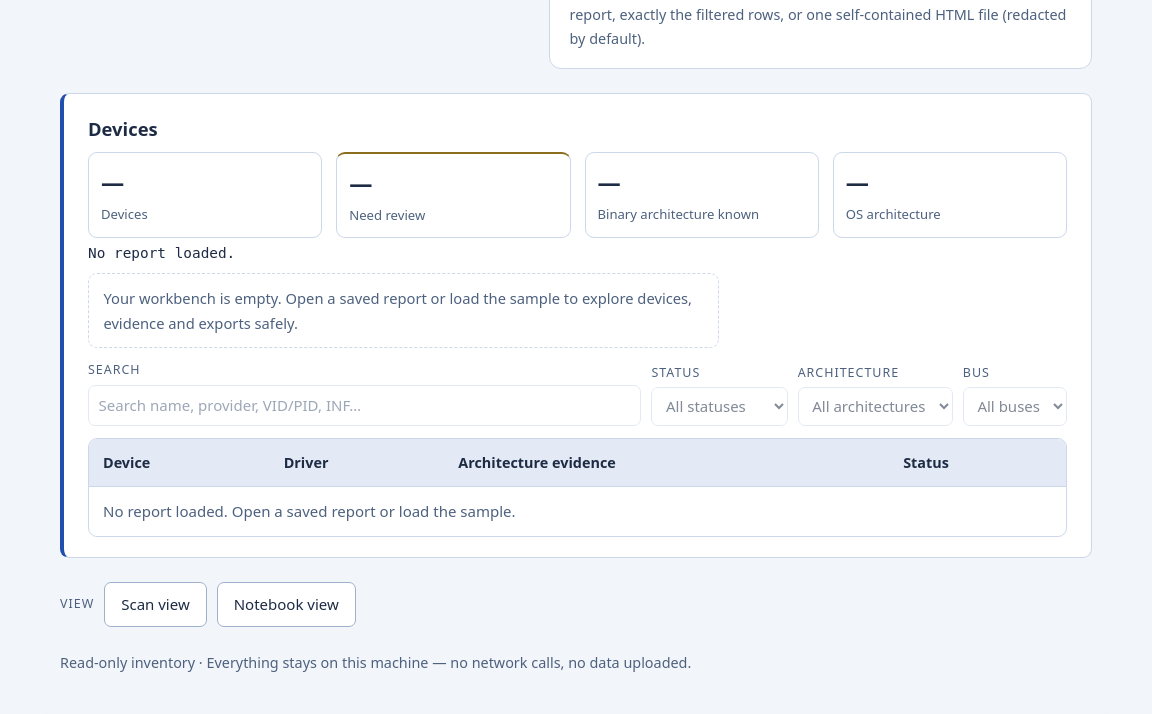
Scenario: App — view switcher › switches between the scan view and the notebook view; the notebook is fetched only when opened
(page scrolled)
Click the button "Notebook view" at (286, 604), box [217,582,356,626]
(page scrolled)
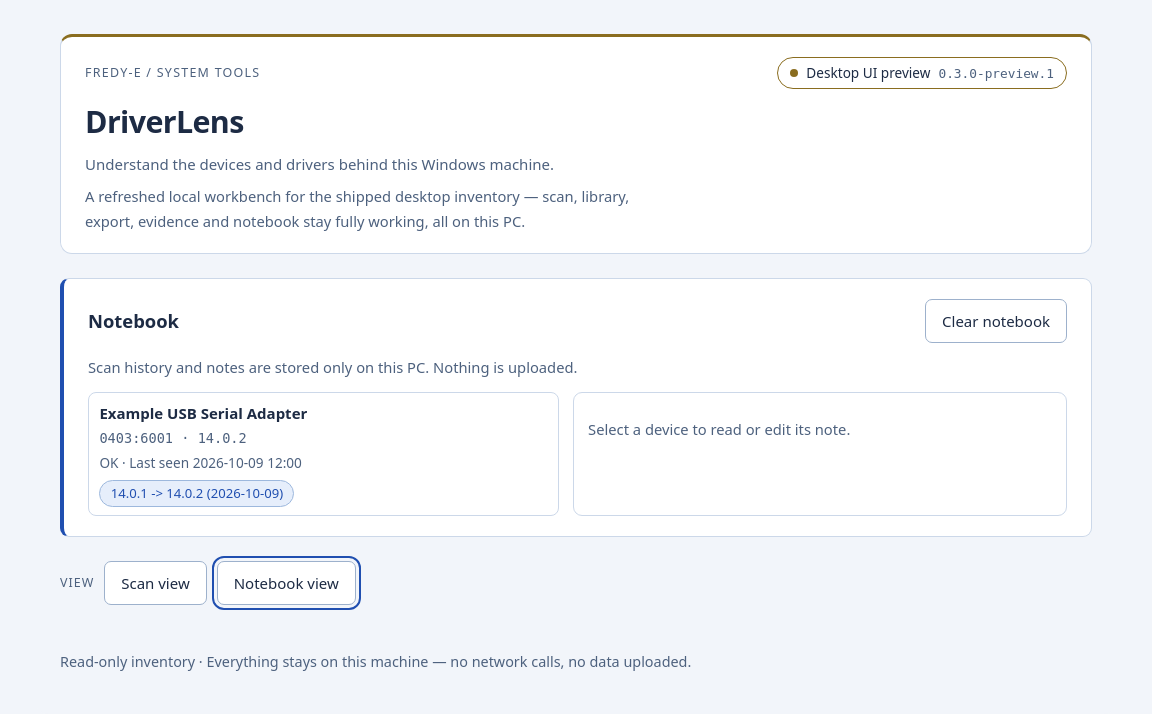
Check: the button "Example USB Serial Adapter" is shown, box [88,392,559,516]
Check: the text "Scan history and notes are stored only on this PC. Nothing is uploaded." is shown, box [88,357,578,377]
Click the button "Scan view" at (155, 583), box [104,561,207,605]
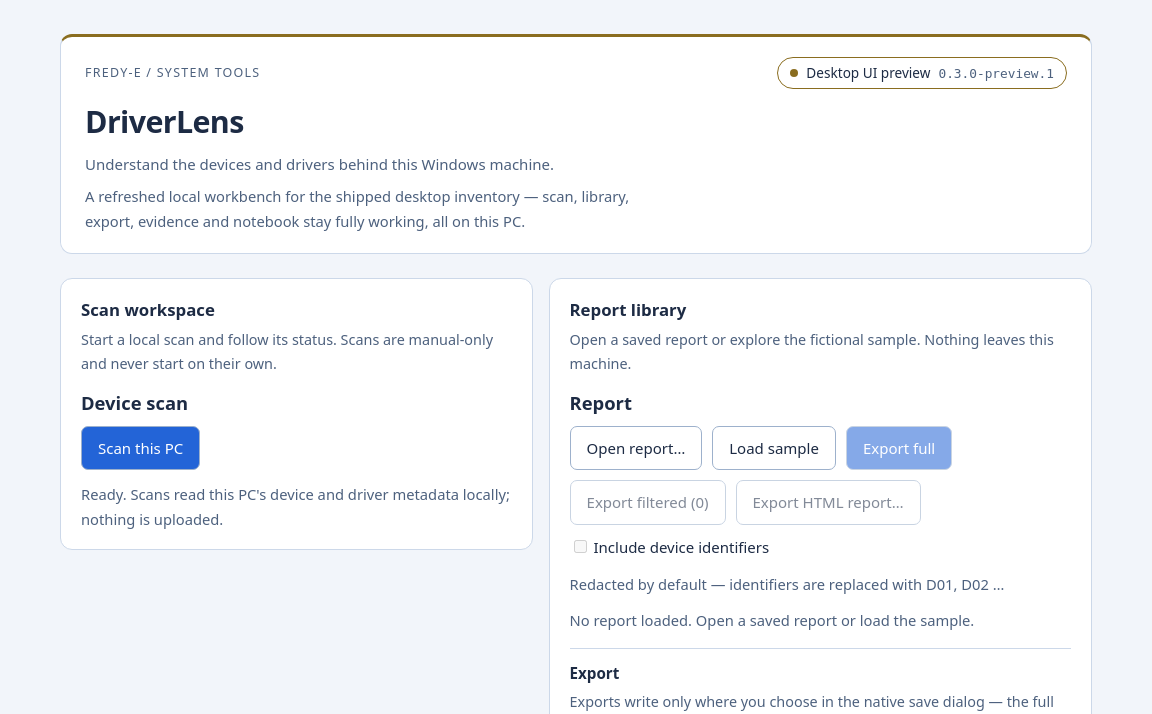
Check: the button "Scan this PC" is shown, box [81,426,200,470]
Check: the text "Scan history and notes are stored only on this PC. Nothing is uploaded." is gone
